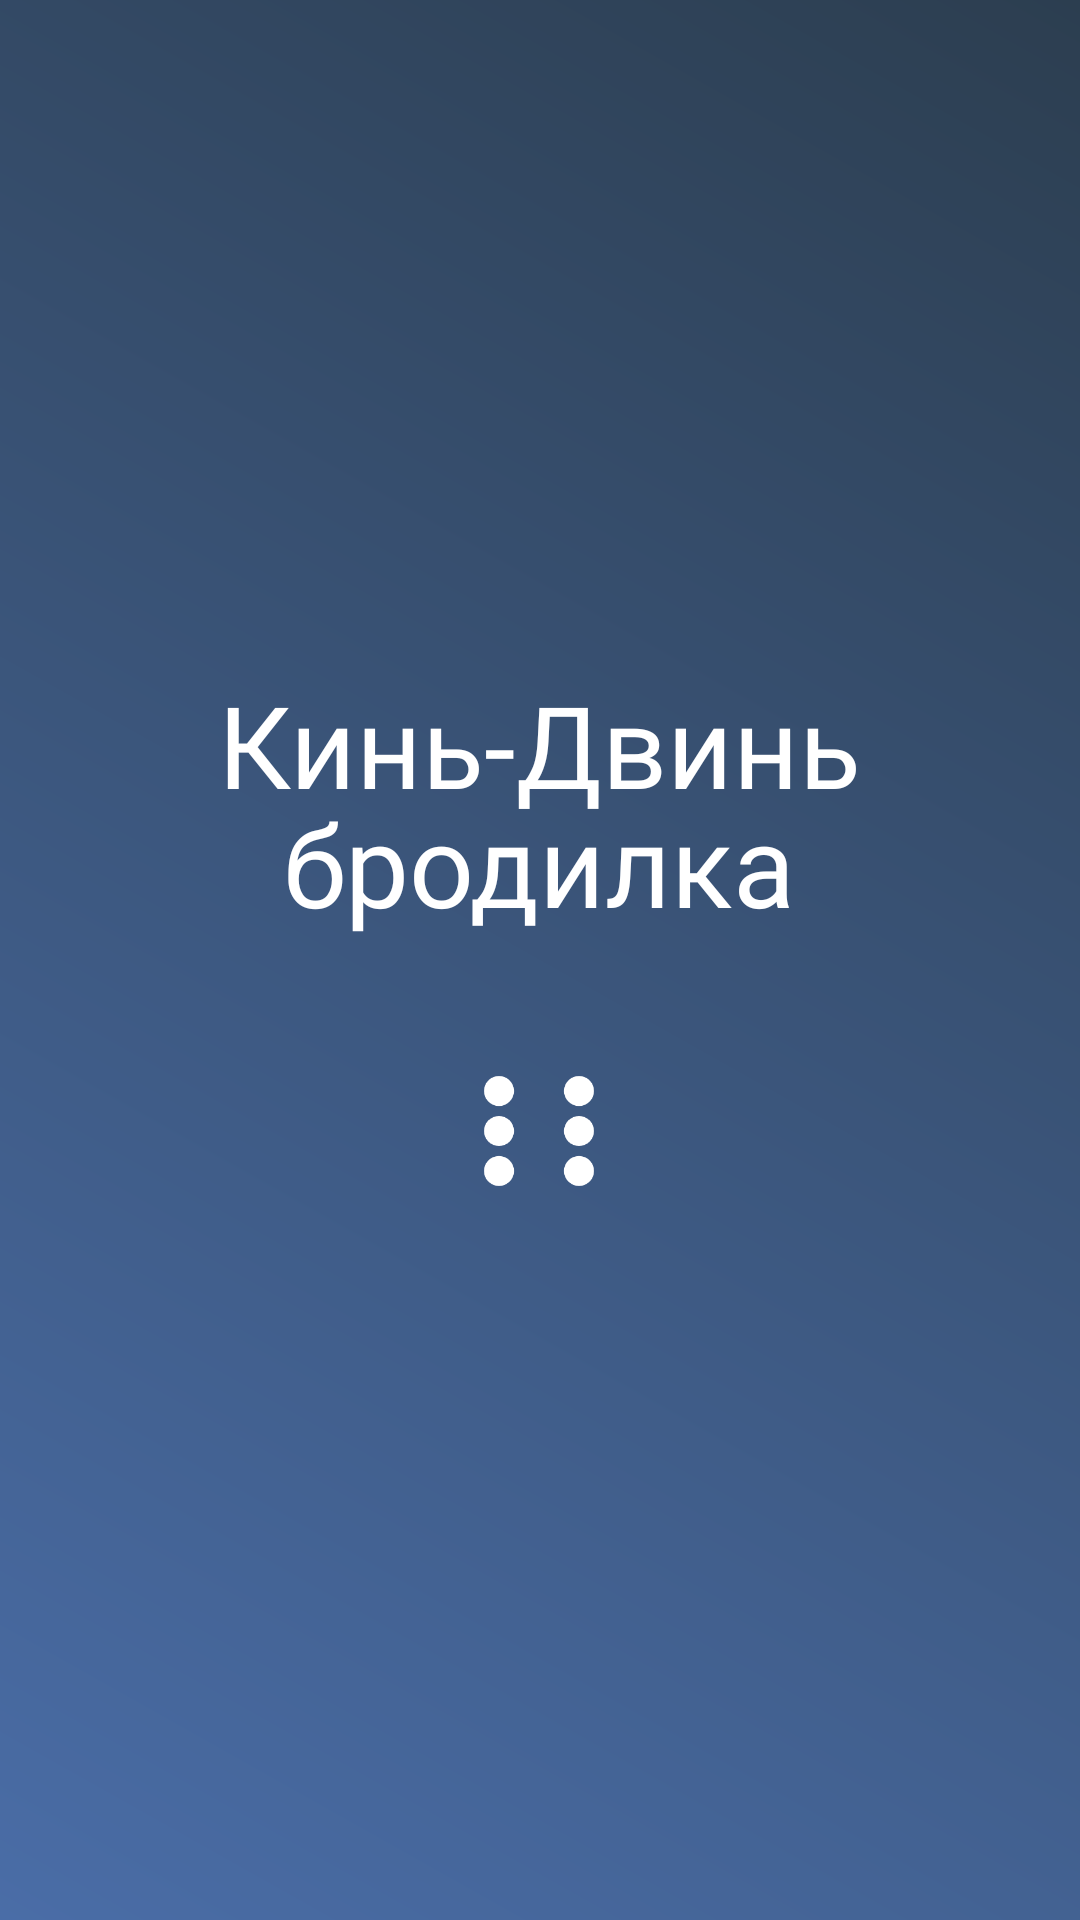

Icon click points for this 1080x1920 phone screenshot, format [x,y]:
dice: [539,1131]
